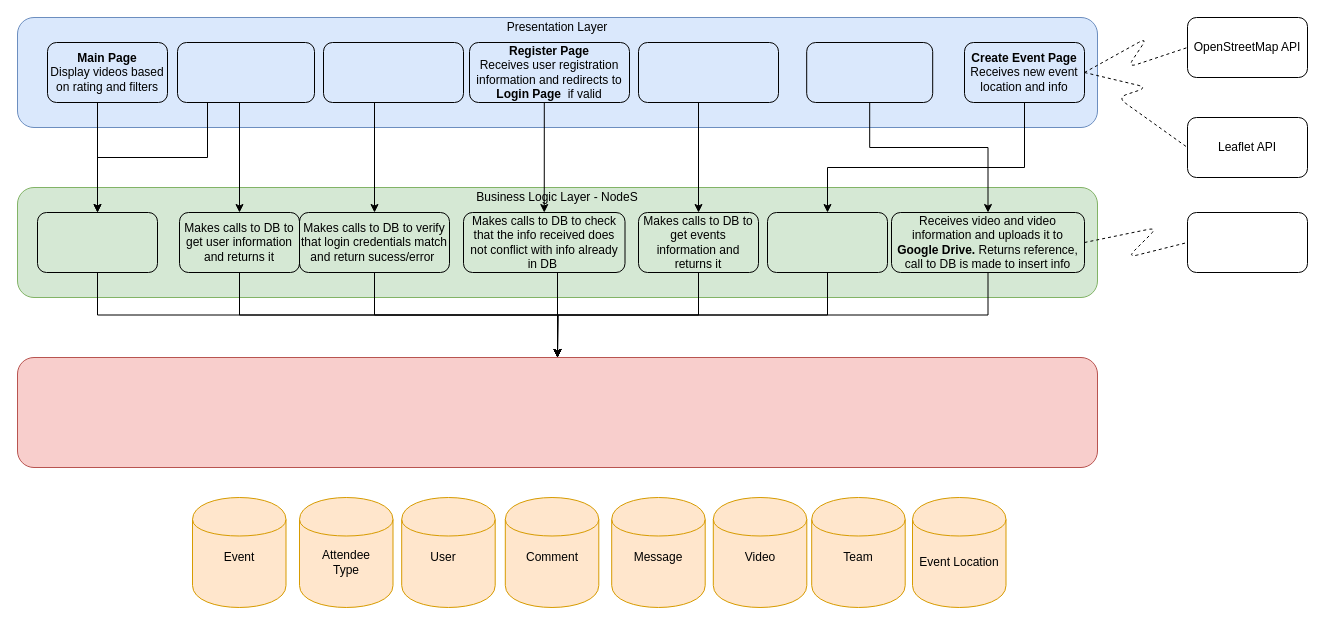
This 1325x625 diagram has some shape labels left out. The centre of each missing label's shape, as x and y in pixels:
"Data Access Layer - DBMS" goes at (x=557, y=412).
"Events Page Displays ongoing events and a map" goes at (x=708, y=72).
"Google Drive API" goes at (x=1247, y=242).
"Login Page Receives user credentials and redirects to Main Page if valid" goes at (x=393, y=72).
"Makes calls to DB to get video information and returns it" goes at (x=97, y=242).
"Makes calls to DB to send new event information" goes at (x=827, y=242).
"Profile Page Display users videos and info. Will vary depending on user type" goes at (x=245, y=72).
"Video Upload Page Receives users video file and info" goes at (x=869, y=72).
